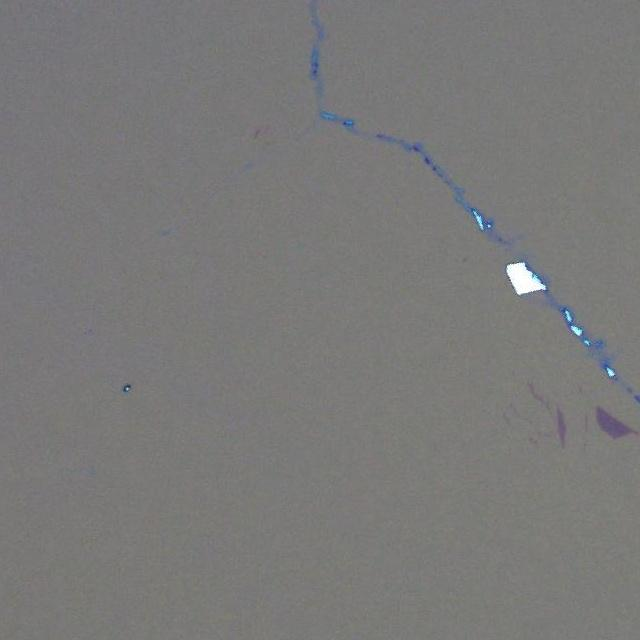monolayer-eWW4: (595, 405, 638, 442), (554, 400, 568, 450)
